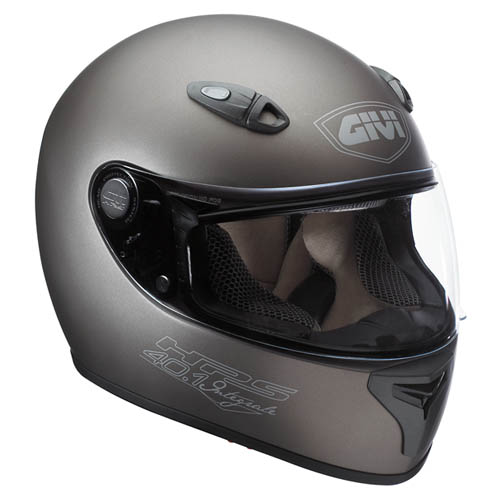helmet: (32, 15, 471, 462)
